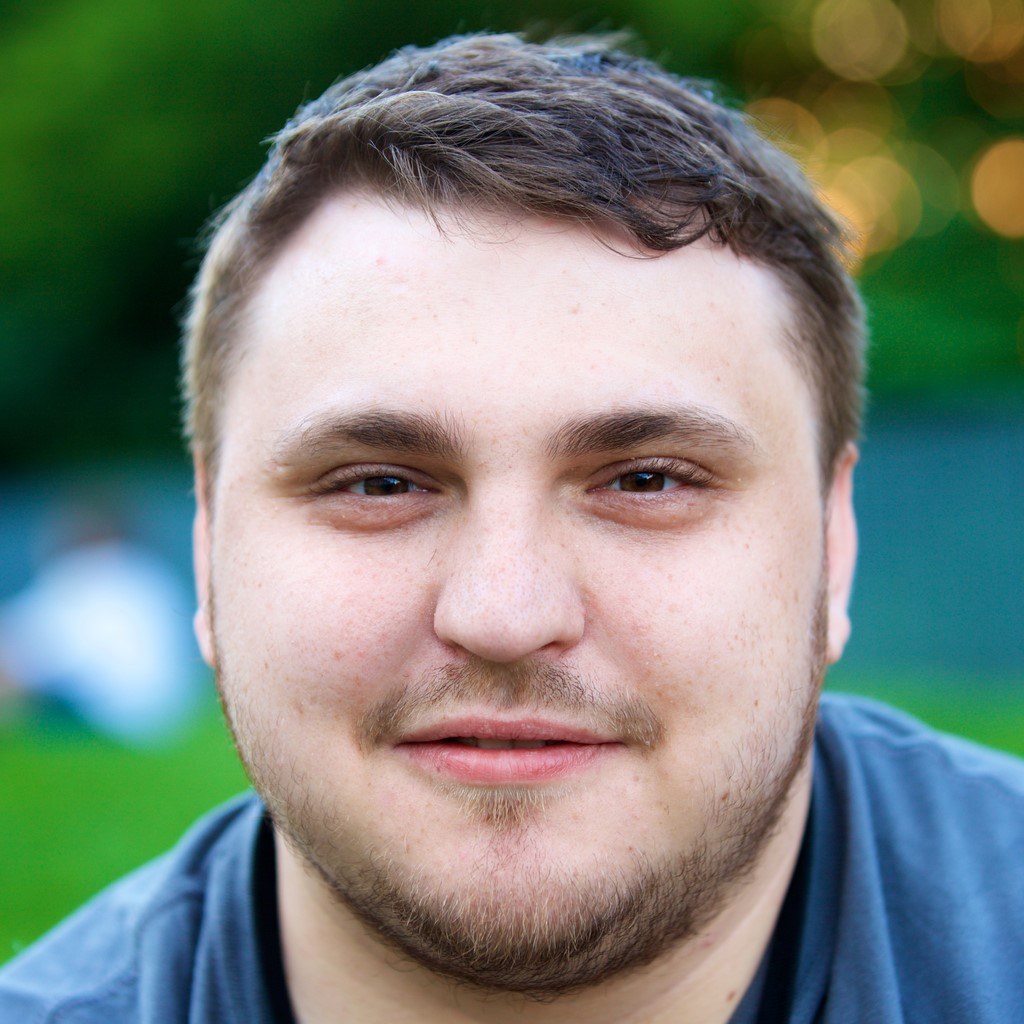sin_mascara: (208, 110, 854, 996)
